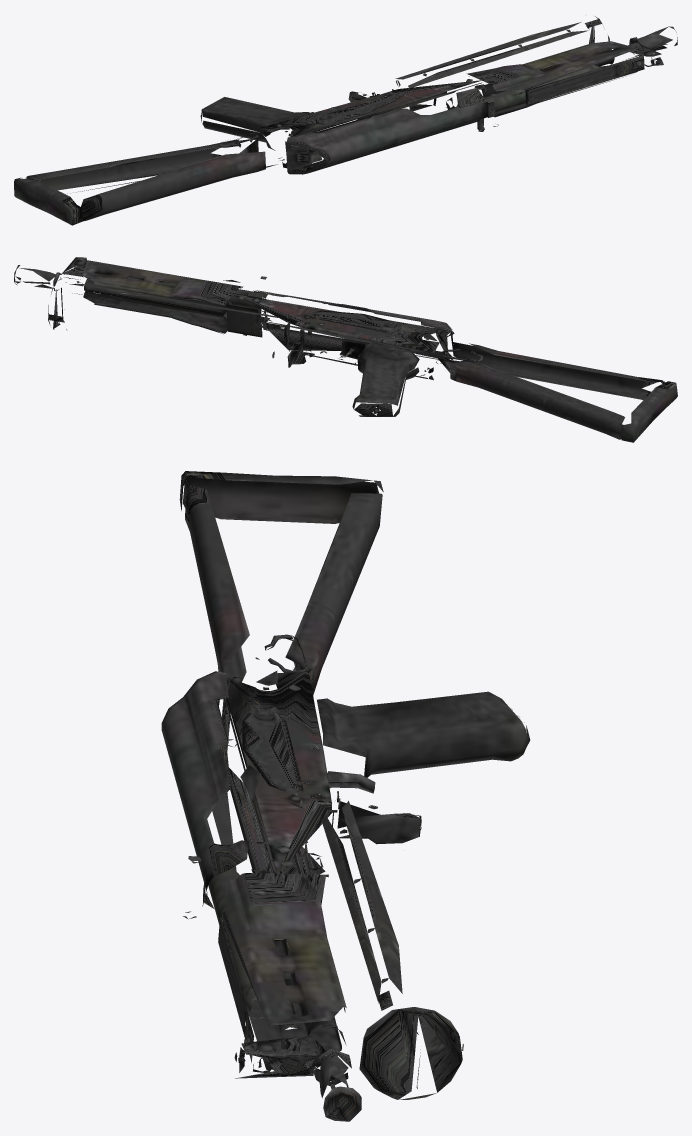
The model's file is p_bizon.glb.
3 views of the same model, one above another, from view 1: azimuth 30°, elevation 25°; view 2: azimuth 150°, elevation 25°; view 3: azimuth 270°, elevation 25° (orthographic). The views are drawn at different scales.
Parts seen in each view (by area): view 1: p_bizon; view 2: p_bizon; view 3: p_bizon.
Boxes of the visible parts, box(x1,y1,x2,y2) form: p_bizon: box(14, 16, 677, 225); p_bizon: box(14, 257, 677, 442); p_bizon: box(161, 471, 530, 1121).
Bounding box in the file's own units: 0.9798 × 0.1038 × 0.2497.
Materials: 1 (1 with a texture image).
